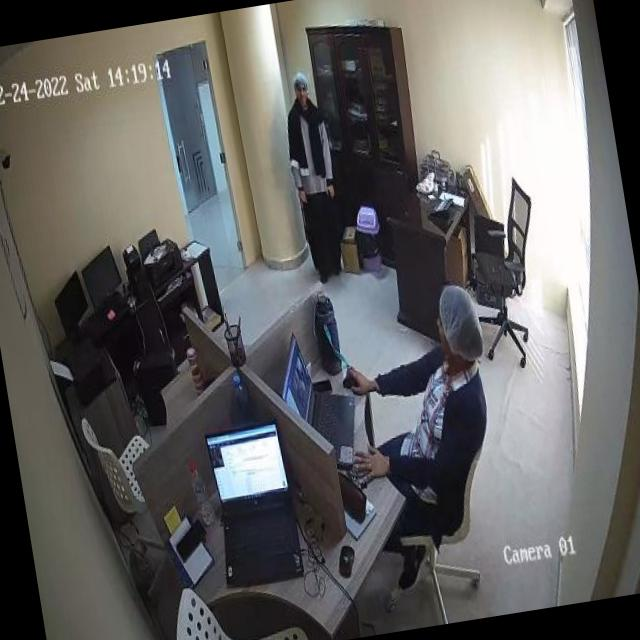hairnet: (438, 282, 491, 366), (292, 70, 310, 92)
